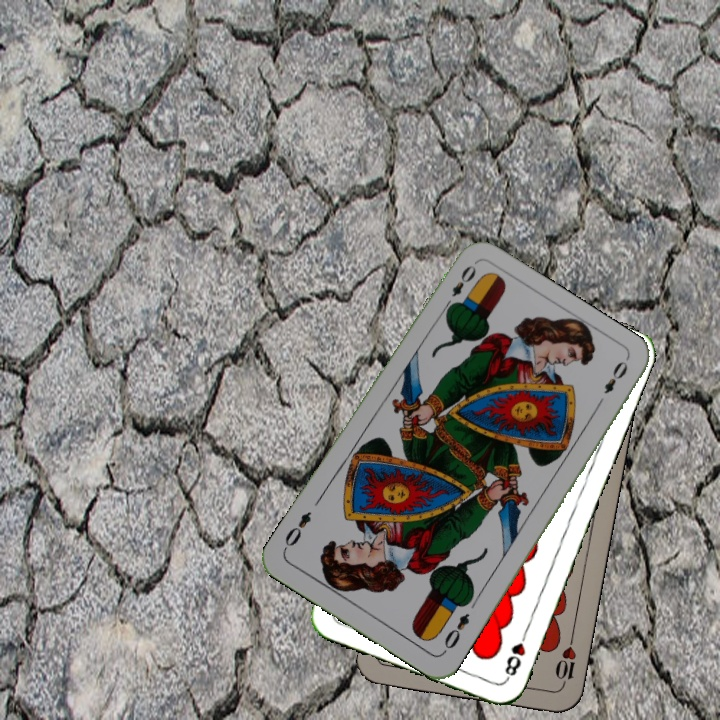EO: (439, 260, 479, 313), (439, 609, 472, 656)
H10: (551, 632, 579, 691)
H8: (501, 626, 530, 683)
